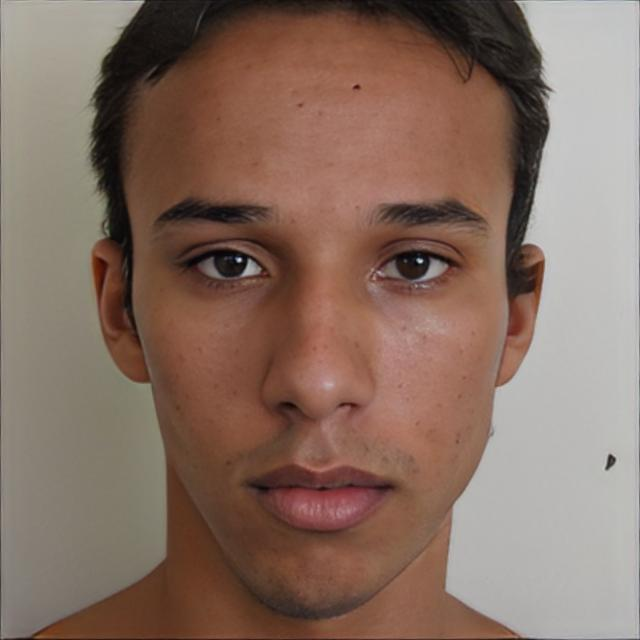neutral: (120, 0, 517, 622)
